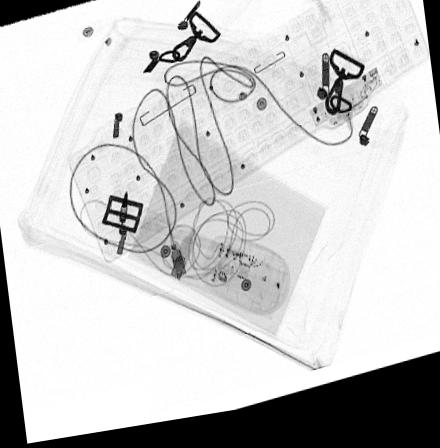Bullet: (118, 194, 126, 226)
